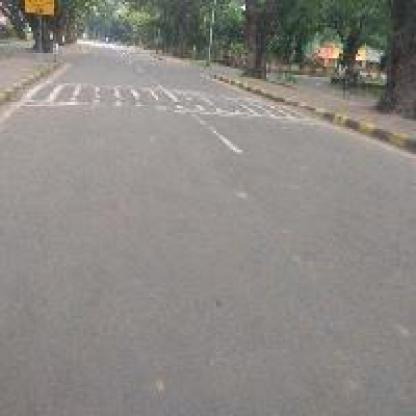Speed Bump: (23, 81, 312, 123)
